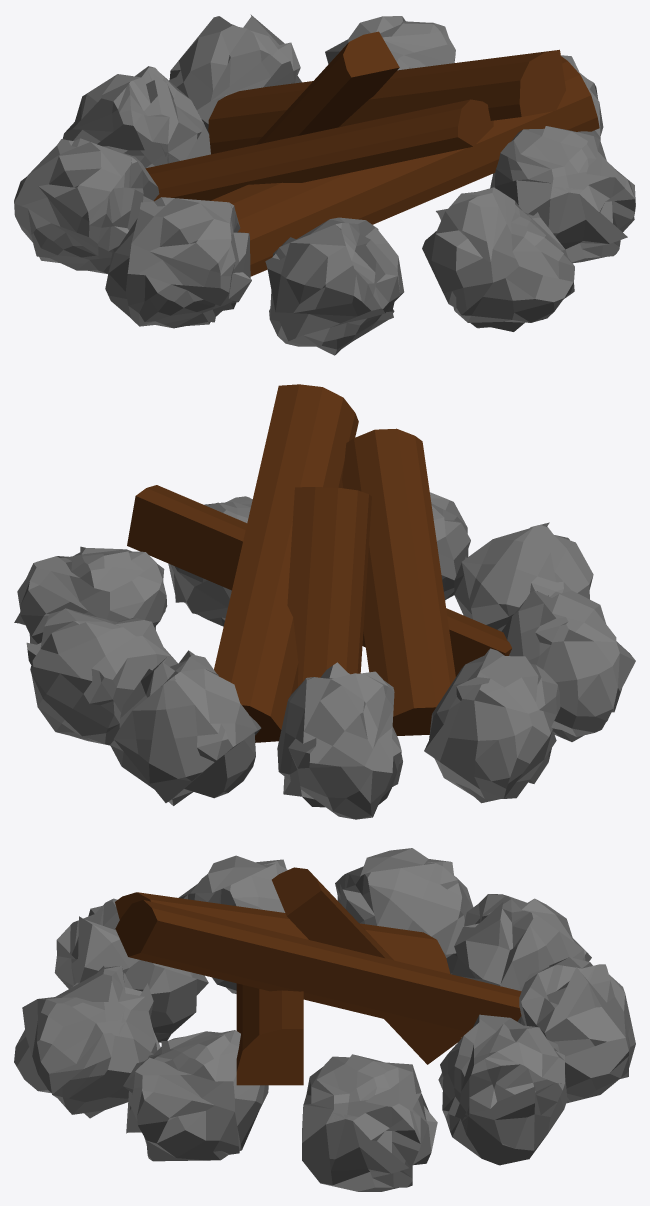
The model's file is campfire.fbx.
3 renders of one model, top to bottom at view 1: azimuth 30°, elevation 25°; view 2: azimuth 150°, elevation 25°; view 3: azimuth 270°, elevation 25°, orthographic.
Visible parts, largest first — view 1: Buche.001, Rocher.007, Rocher.005, Buche.002, Rocher.006, Buche, Rocher.004, Rocher.008, Rocher.003, Rocher.002, Buche.003, Rocher.001 (+1 smaller); view 2: Buche, Buche.002, Rocher.002, Rocher.003, Rocher.004, Buche.003, Rocher.001, Rocher.005, Buche.001, Rocher, Rocher.006, Rocher.008 (+1 smaller); view 3: Buche, Rocher, Rocher.007, Rocher.001, Rocher.008, Rocher.002, Rocher.004, Rocher.003, Rocher.006, Buche.001, Buche.003, Buche.002 (+1 smaller).
Part boxes in pixels (x1,y1,x2,y2): Buche.001: (210,56,599,276); Rocher.007: (422,187,574,331); Rocher.005: (105,197,251,328); Buche.002: (145,99,493,201); Rocher.006: (265,217,404,355); Buche: (208,49,565,154); Rocher.004: (14,138,159,273); Rocher.008: (490,126,635,263); Rocher.003: (62,66,210,168); Rocher.002: (169,14,301,130); Buche.003: (255,31,399,144); Rocher.001: (325,16,455,70); Buche: (214,384,358,742); Buche.002: (342,428,455,735); Rocher.002: (110,650,261,805); Rocher.003: (277,662,402,819); Rocher.004: (424,648,560,803); Buche.003: (287,487,371,686); Rocher.001: (26,608,177,745); Rocher.005: (501,590,635,741); Buche.001: (127,485,511,676); Rocher: (14,546,167,644); Rocher.006: (454,522,593,631); Rocher.008: (168,496,252,626); Buche: (115,900,521,1037); Rocher: (302,1054,437,1191); Rocher.007: (14,965,160,1118); Rocher.001: (438,1014,567,1165); Rocher.008: (123,1030,268,1161); Rocher.002: (517,957,635,1103); Rocher.004: (335,848,473,974); Rocher.003: (452,894,591,991); Rocher.006: (54,898,208,1042); Buche.001: (236,983,303,1085); Buche.003: (272,867,461,1064); Buche.002: (115,892,450,973).
Size of the model in its own units: 1371 by 1343 by 575.
